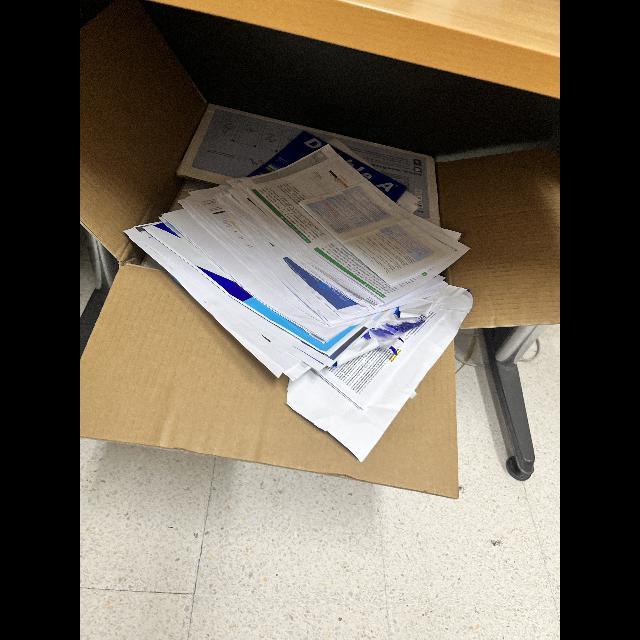reuseable_paper: (111, 144, 476, 458)
